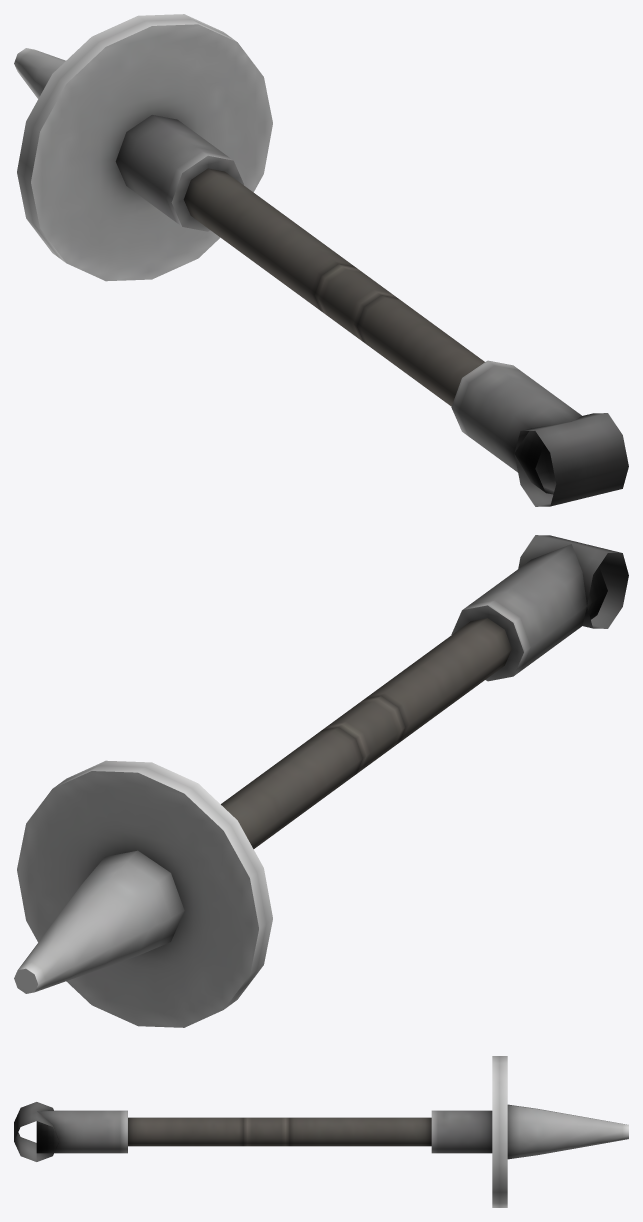
Rendered from low gain folding short.obj.
3 renders of one model, top to bottom at view 1: azimuth 30°, elevation 25°; view 2: azimuth 150°, elevation 25°; view 3: azimuth 270°, elevation 25°, orthographic. The views are drawn at different scales.
Parts seen in each view (by area): view 1: 1; view 2: 1; view 3: 1.
Part boxes in pixels (x1,y1,x2,y2): 1: (14, 14, 628, 506); 1: (14, 535, 628, 1027); 1: (14, 1056, 628, 1207).
Size of the model in its own units: 0.125 by 0.125 by 0.5063.
Materials: 1 (1 with a texture image).
